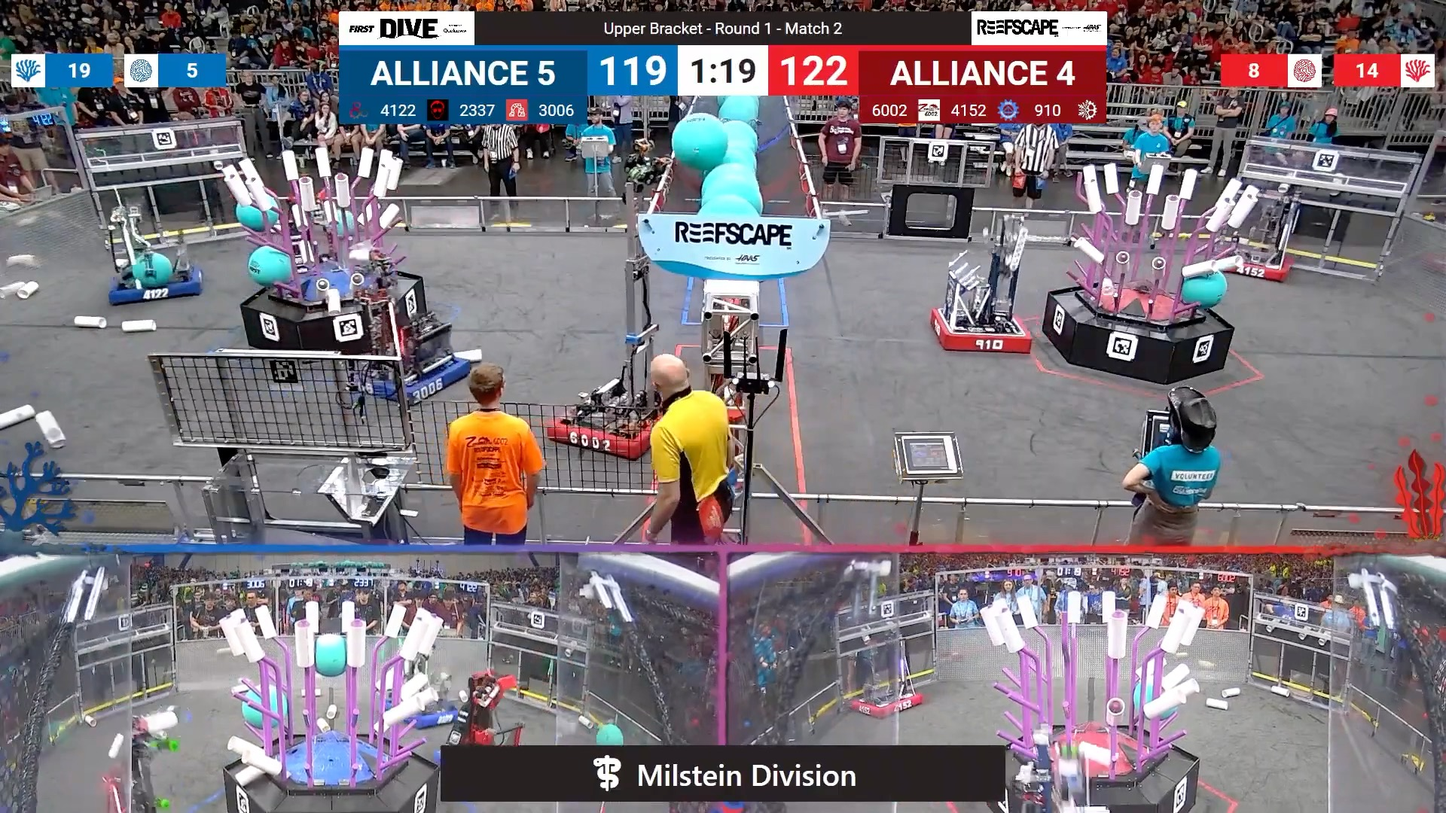bumpers: (344, 349, 482, 408), (540, 399, 670, 459), (926, 304, 1039, 358), (103, 260, 211, 311), (1206, 247, 1300, 284), (845, 685, 929, 720)
